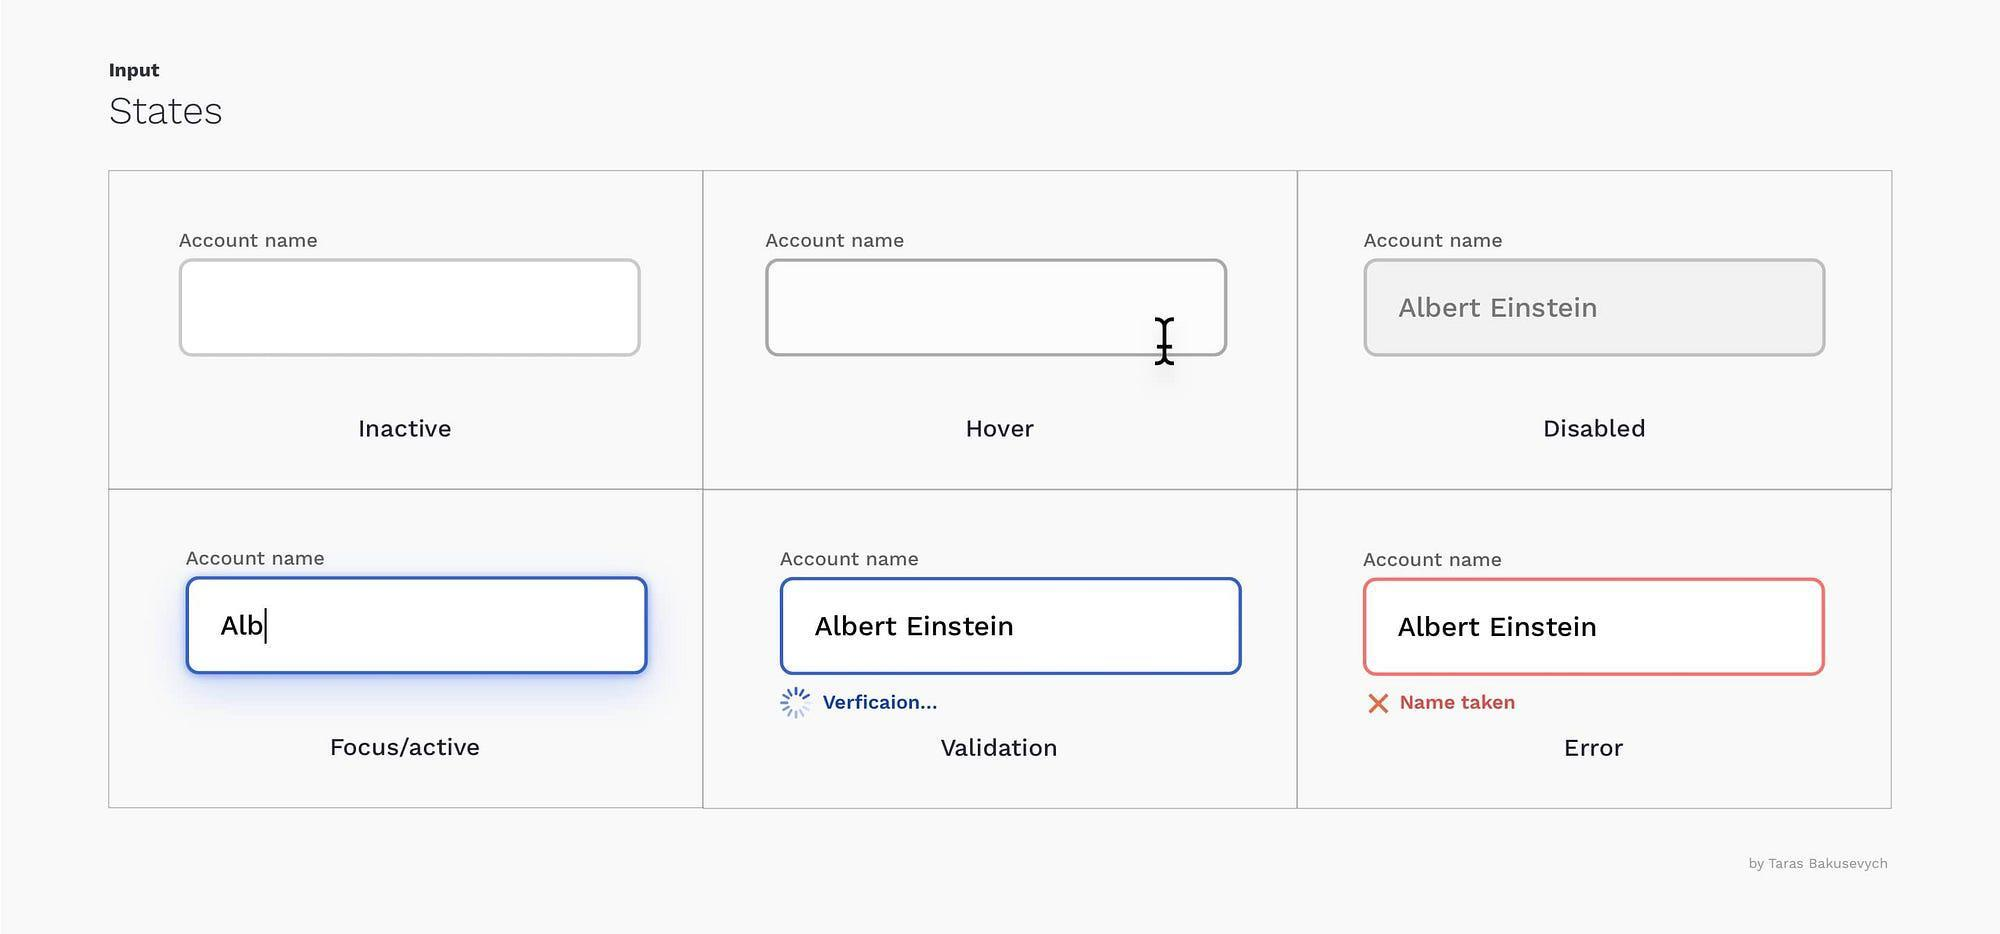input: (190, 578, 647, 676), (768, 262, 1226, 359), (1367, 262, 1823, 359), (784, 581, 1244, 674), (1367, 581, 1824, 674), (181, 262, 642, 353)
label: (778, 547, 927, 572), (187, 547, 335, 572), (765, 228, 906, 253), (1364, 230, 1509, 251), (171, 235, 324, 255), (1349, 552, 1510, 572)
